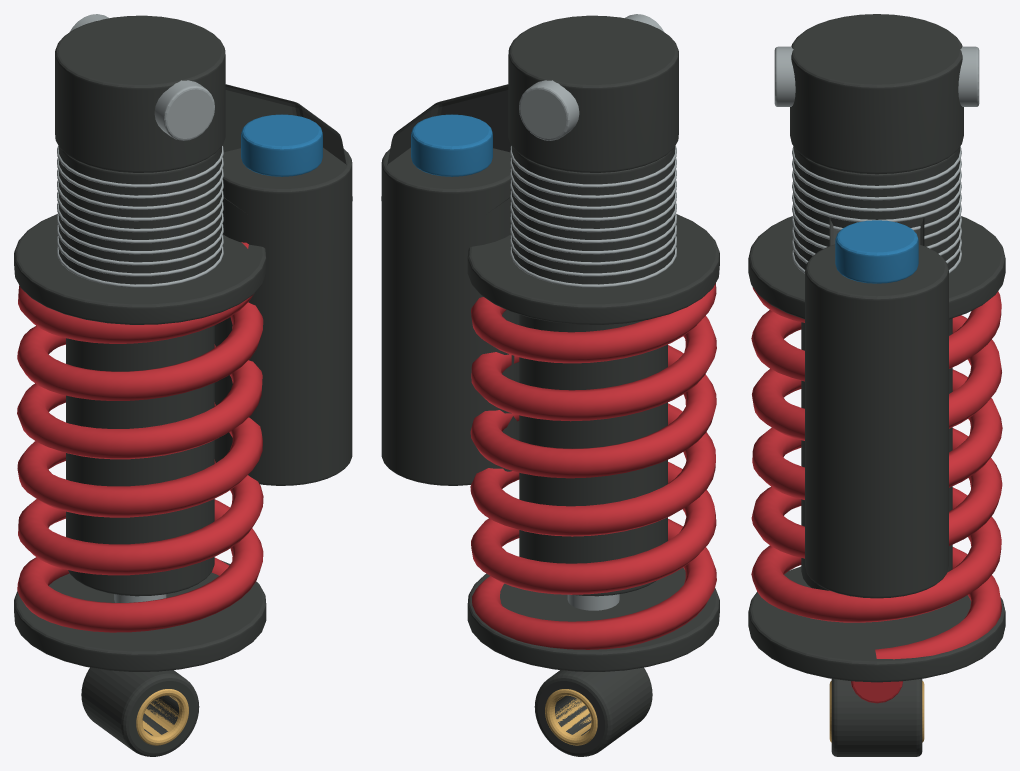
The model's file is rockshox-vivid-coil-ultimate-d1--54beba18.glb.
3 renders of one model, left to right at view 1: azimuth 30°, elevation 25°; view 2: azimuth 150°, elevation 25°; view 3: azimuth 270°, elevation 25°, orthographic.
Parts seen in each view (by area): view 1: rockshox-vivid-coil-ultimate-d1--54beba18__link, rockshox-vivid-coil-ultimate-d1--54beba18__rebound, rockshox-vivid-coil-ultimate-d1--54beba18__bolts, rockshox-vivid-coil-ultimate-d1--54beba18__adjuster, rockshox-vivid-coil-ultimate-d1--54beba18__stanchions; view 2: rockshox-vivid-coil-ultimate-d1--54beba18__link, rockshox-vivid-coil-ultimate-d1--54beba18__rebound, rockshox-vivid-coil-ultimate-d1--54beba18__bolts, rockshox-vivid-coil-ultimate-d1--54beba18__adjuster, rockshox-vivid-coil-ultimate-d1--54beba18__stanchions; view 3: rockshox-vivid-coil-ultimate-d1--54beba18__link, rockshox-vivid-coil-ultimate-d1--54beba18__rebound, rockshox-vivid-coil-ultimate-d1--54beba18__bolts, rockshox-vivid-coil-ultimate-d1--54beba18__adjuster.
Boxes of the visible parts, box(x1,y1,x2,y2) form: rockshox-vivid-coil-ultimate-d1--54beba18__link: box(14, 15, 352, 756); rockshox-vivid-coil-ultimate-d1--54beba18__rebound: box(17, 242, 263, 632); rockshox-vivid-coil-ultimate-d1--54beba18__bolts: box(57, 14, 223, 602); rockshox-vivid-coil-ultimate-d1--54beba18__adjuster: box(241, 114, 322, 176); rockshox-vivid-coil-ultimate-d1--54beba18__stanchions: box(136, 689, 188, 745); rockshox-vivid-coil-ultimate-d1--54beba18__link: box(381, 15, 719, 756); rockshox-vivid-coil-ultimate-d1--54beba18__rebound: box(470, 283, 716, 649); rockshox-vivid-coil-ultimate-d1--54beba18__bolts: box(510, 14, 676, 610); rockshox-vivid-coil-ultimate-d1--54beba18__adjuster: box(411, 114, 492, 176); rockshox-vivid-coil-ultimate-d1--54beba18__stanchions: box(545, 689, 597, 745); rockshox-vivid-coil-ultimate-d1--54beba18__link: box(748, 14, 1005, 756); rockshox-vivid-coil-ultimate-d1--54beba18__rebound: box(751, 287, 1002, 703); rockshox-vivid-coil-ultimate-d1--54beba18__bolts: box(774, 46, 979, 273); rockshox-vivid-coil-ultimate-d1--54beba18__adjuster: box(835, 220, 918, 283).
Bounding box in the file's own units: 0.097 × 0.205 × 0.068.
